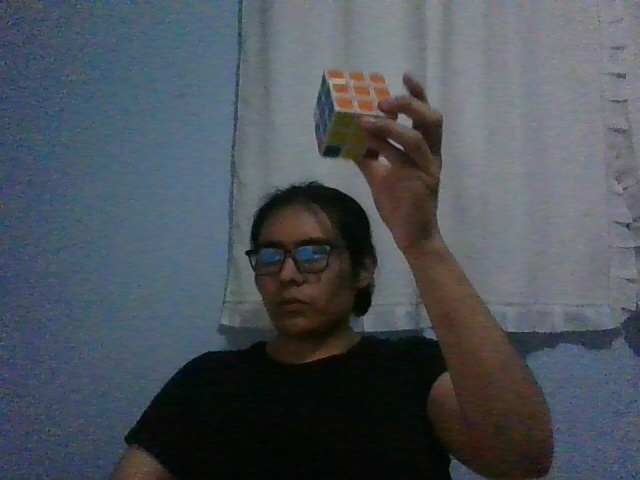rubik: (312, 68, 398, 162)
